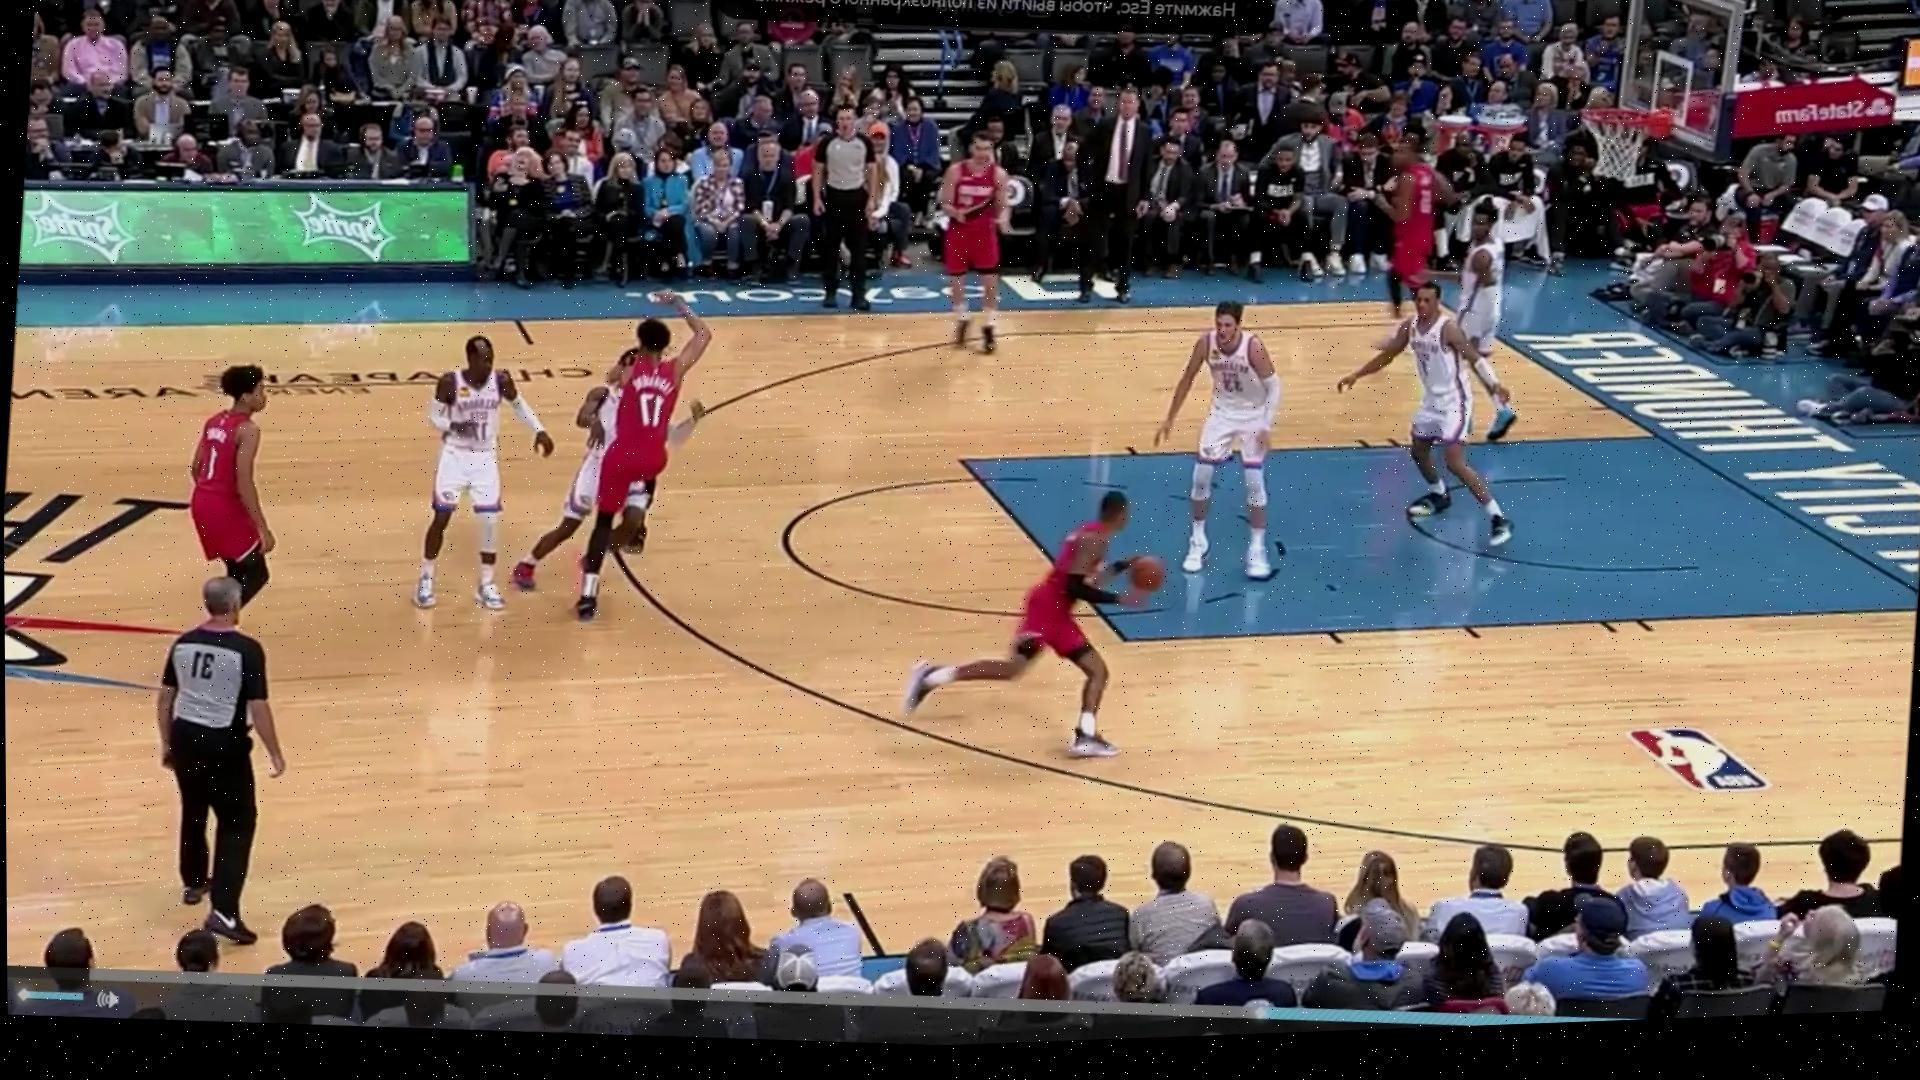foul: (510, 266, 761, 641)
